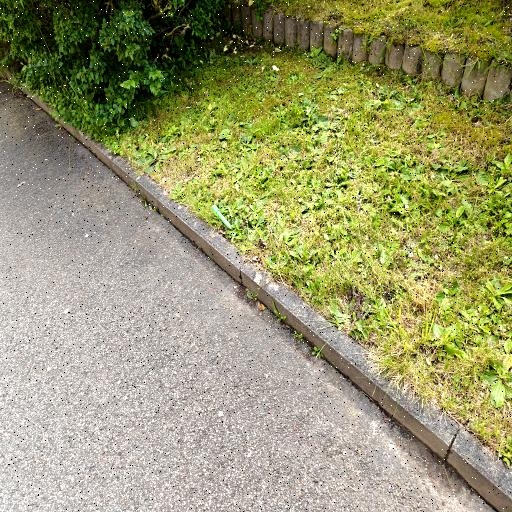Probe-Detection: (212, 205, 232, 229)
